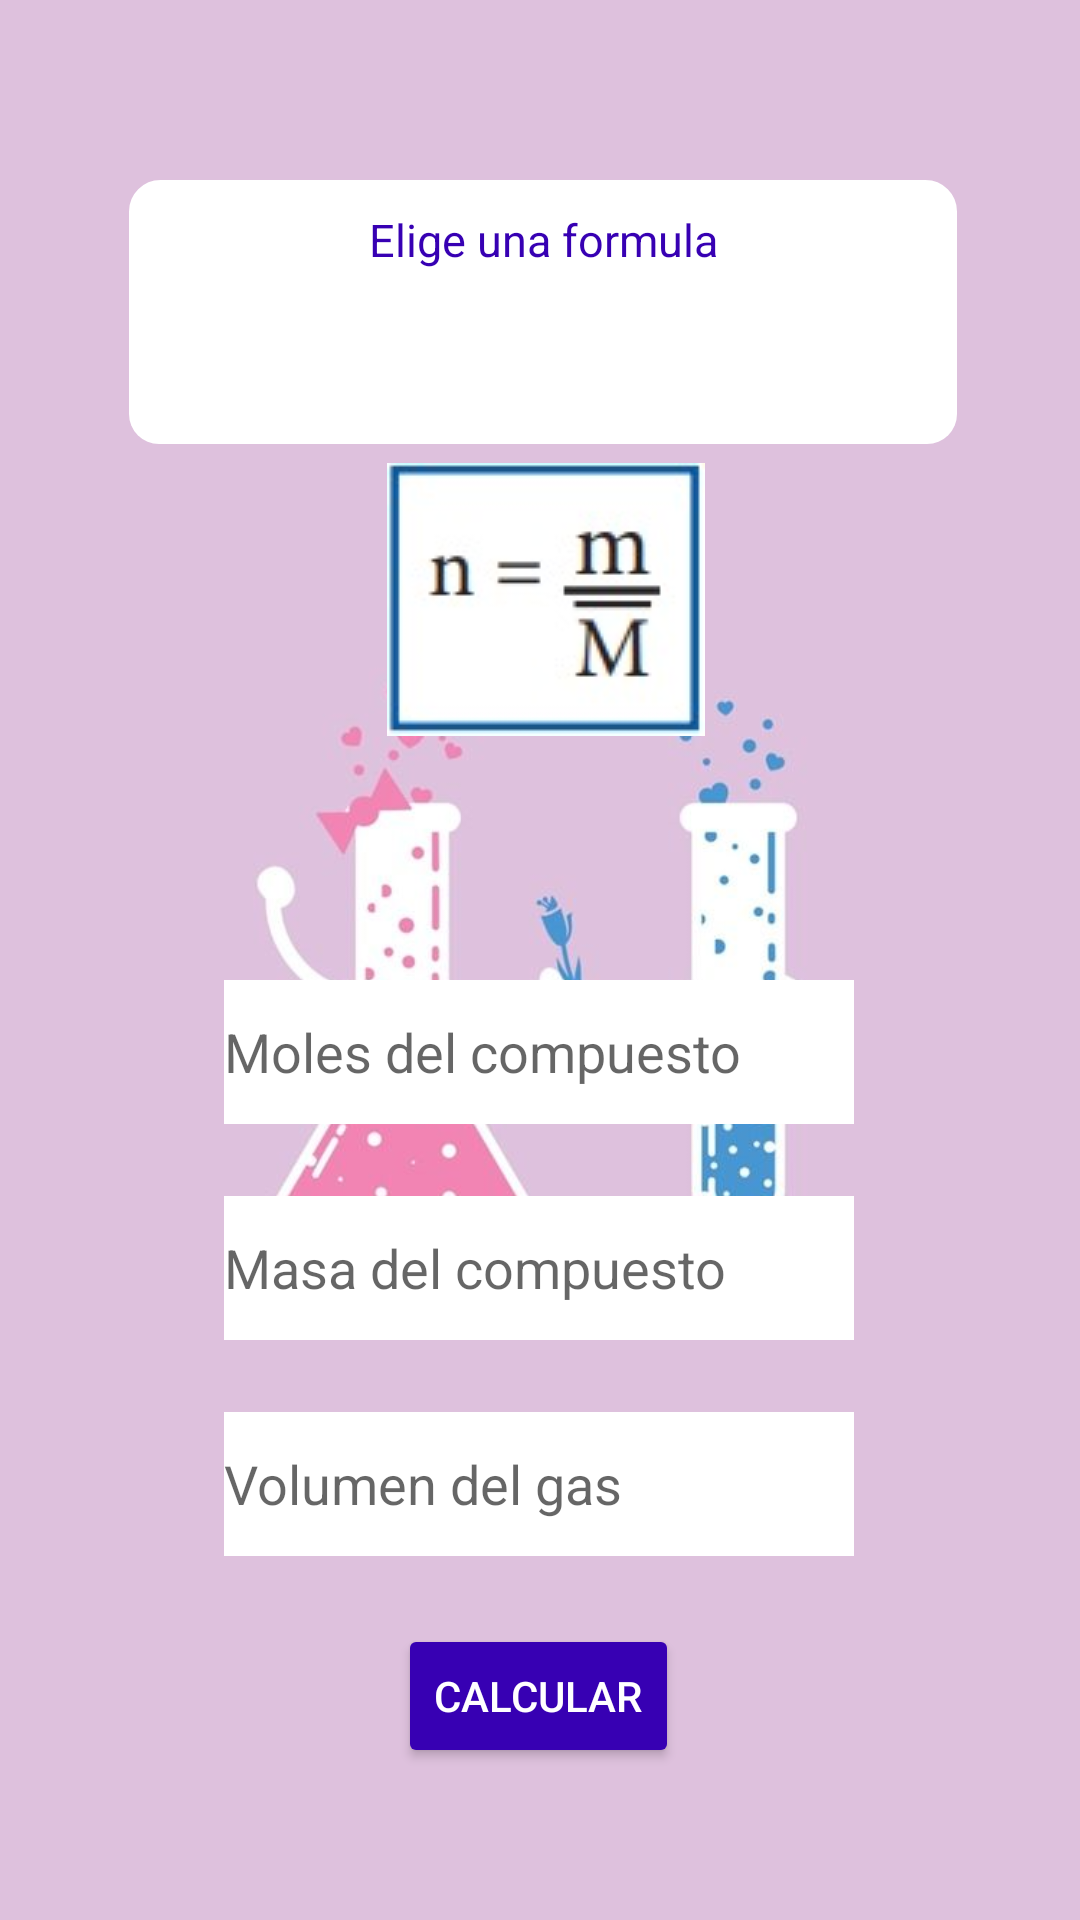

Named icons in this screenshot (1080×1920) and their bounding boxes, [x1,y1,x2,y2]:
moles compuesto: [387,463,705,736]
